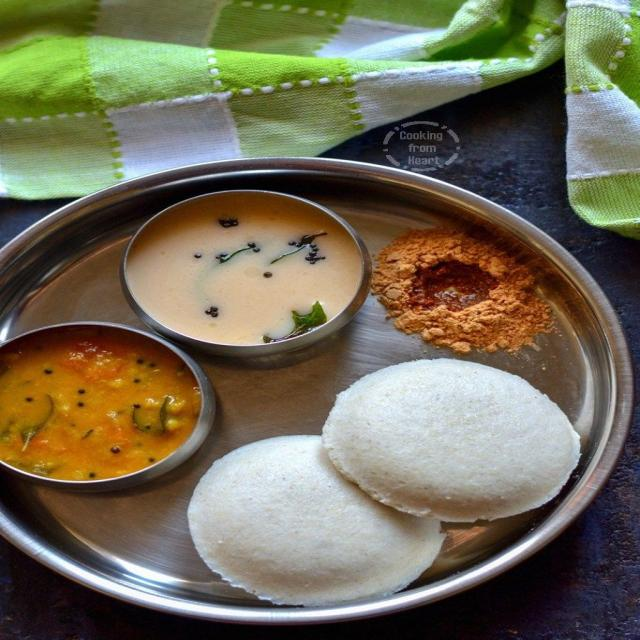chutney: (127, 192, 367, 346)
idly: (339, 345, 583, 519), (195, 439, 432, 610)
sambar: (0, 319, 211, 484)
